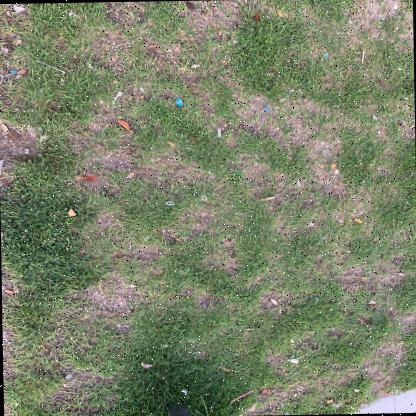Cigarette: (218, 365, 230, 372), (3, 289, 14, 294), (166, 141, 175, 147), (354, 217, 363, 223), (384, 392, 394, 395), (327, 399, 334, 403)
Other plastic bottle: (35, 59, 63, 72), (230, 389, 253, 403)
Pop tab: (68, 11, 77, 19), (201, 194, 208, 201), (164, 201, 174, 205), (296, 385, 304, 390), (325, 178, 331, 184)
Unlabeled litter: (175, 97, 183, 108)
